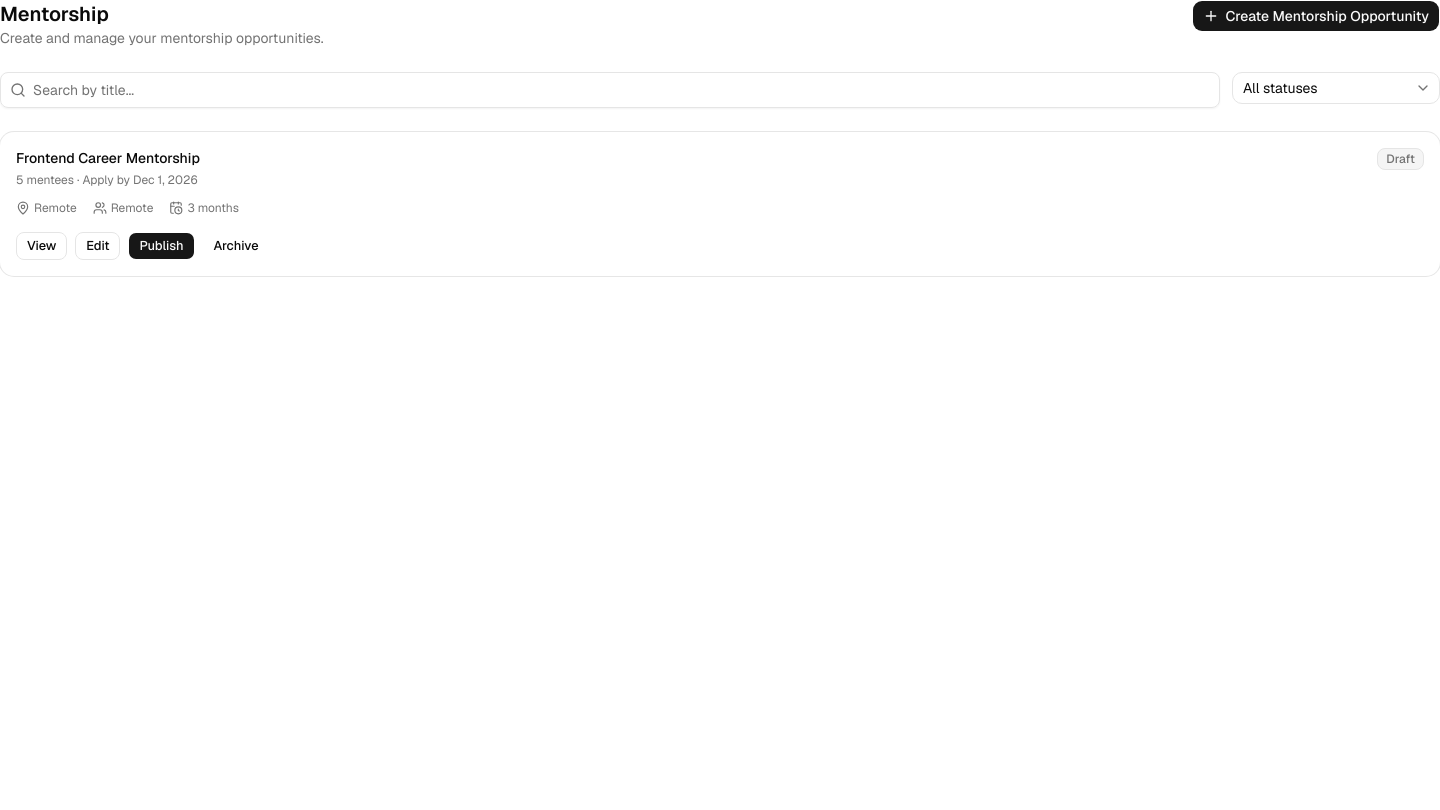
Test: MentorshipListView › surfaces a publish error from the API
Expected: the link "Frontend Career Mentorship" is shown, x1=16 y1=148 x2=200 y2=168
What coordinates should you click on to do the following:
click the button "Publish"
I would click on:
 (162, 246)
Its box is x1=128 y1=232 x2=195 y2=260.
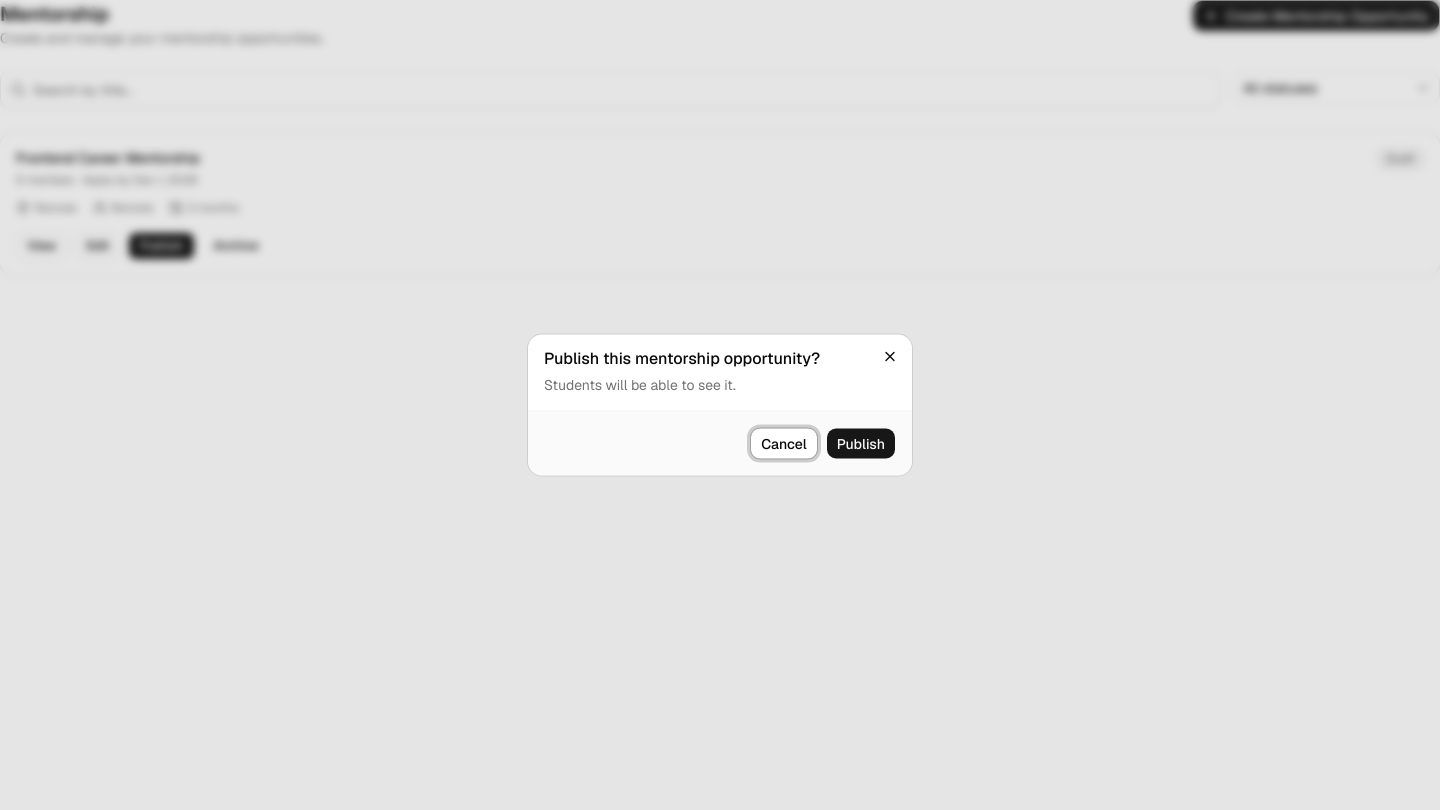
What coordinates should you click on to do the following:
click the button "Publish"
I would click on:
 (861, 444)
Its box is x1=826 y1=428 x2=896 y2=460.
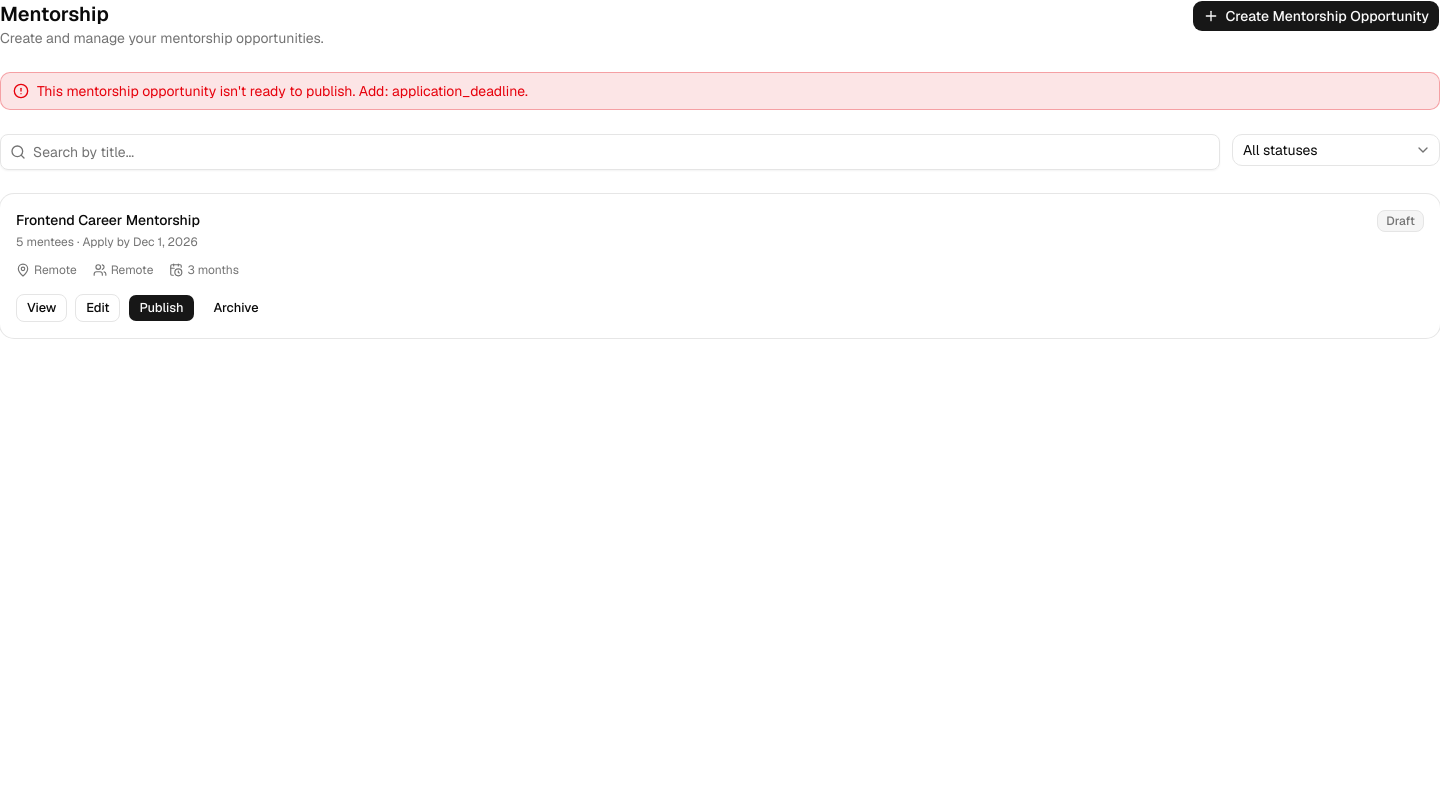
Expected: the text "isn't ready to publish" is shown, x1=37 y1=82 x2=528 y2=100
